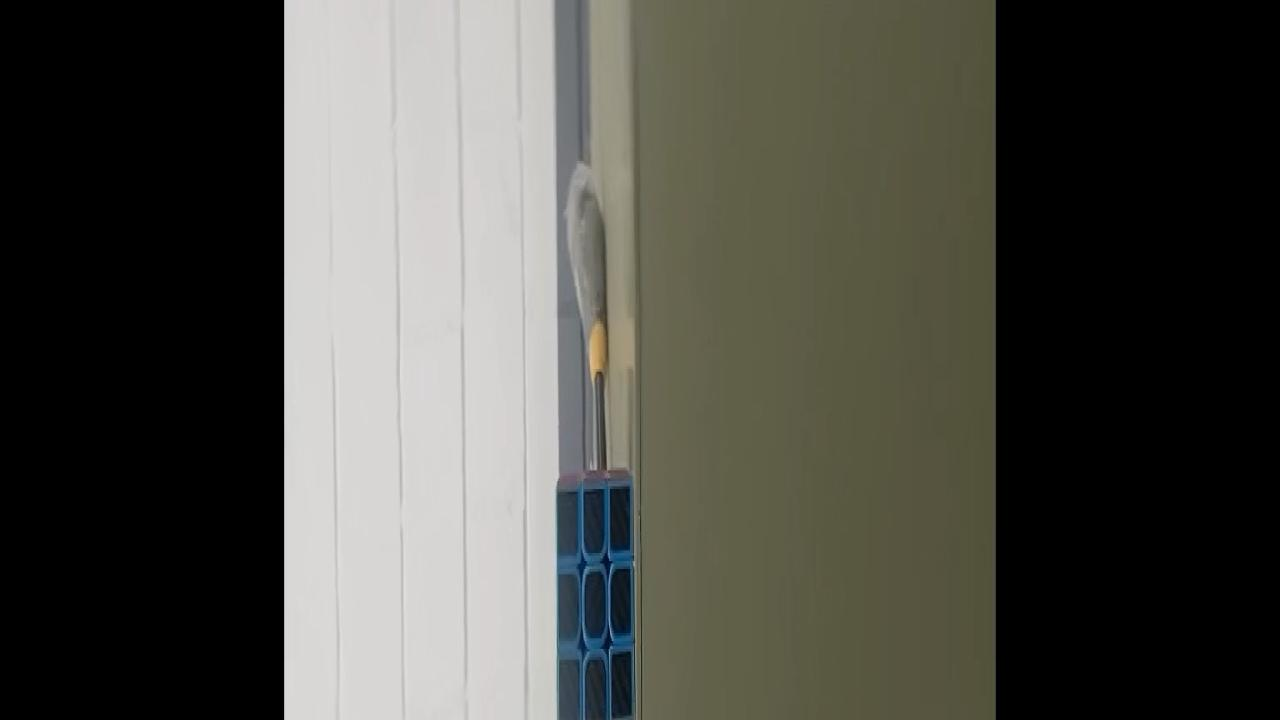Cube: (553, 467, 635, 720)
